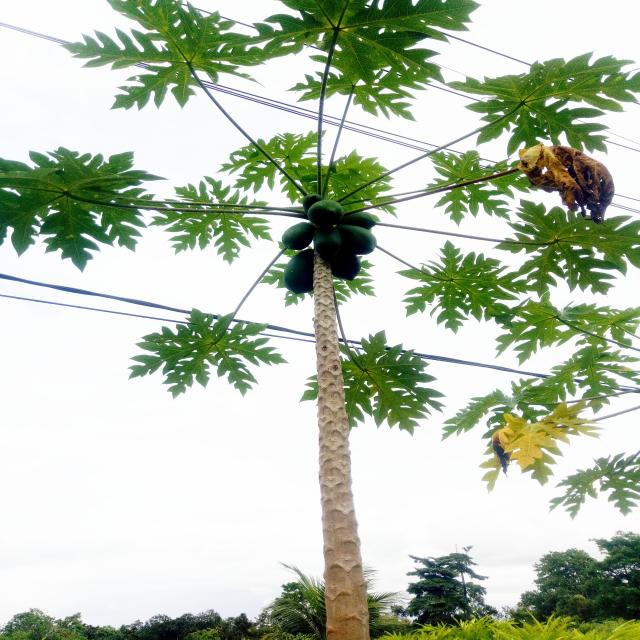Pepaya unrippen: (278, 251, 321, 298), (274, 221, 320, 252), (341, 228, 374, 252), (312, 199, 342, 225)
